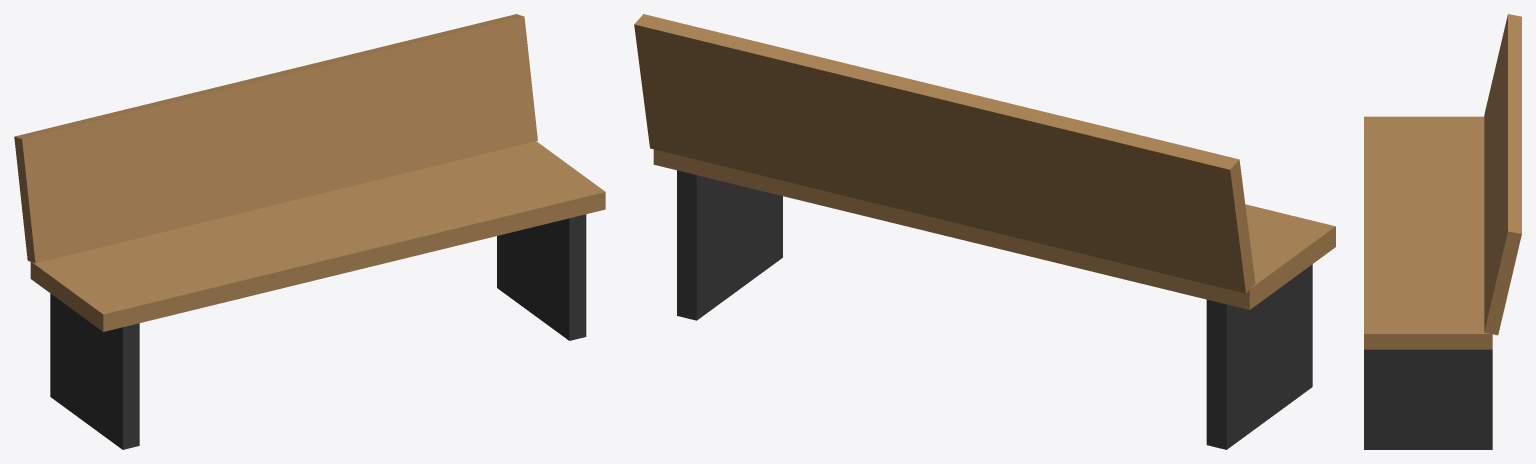
The model's file is Bench.glb.
The picture shows the model from 3 angles, left to right: view 1: azimuth 30°, elevation 25°; view 2: azimuth 150°, elevation 25°; view 3: azimuth 270°, elevation 25°; orthographic projection. The views are drawn at different scales.
Parts seen in each view (by area): view 1: Back, Seat, Leg L, Leg R; view 2: Back, Seat, Leg L, Leg R; view 3: Seat, Leg R, Back.
Boxes of the visible parts, x1=… form: Back: x1=14, y1=14, x2=537, y2=263; Seat: x1=30, y1=141, x2=605, y2=331; Leg L: x1=50, y1=293, x2=139, y2=449; Leg R: x1=497, y1=214, x2=586, y2=340; Back: x1=634, y1=14, x2=1255, y2=293; Seat: x1=653, y1=149, x2=1335, y2=309; Leg L: x1=1206, y1=264, x2=1312, y2=449; Leg R: x1=677, y1=170, x2=782, y2=320; Seat: x1=1364, y1=116, x2=1492, y2=349; Leg R: x1=1364, y1=349, x2=1492, y2=449; Back: x1=1484, y1=14, x2=1521, y2=335.
Size of the model in its own units: 1.8 by 0.8765 by 0.5526.
